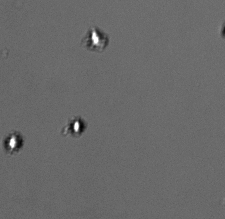Living Cell: (82, 28, 109, 50), (4, 131, 23, 153), (69, 113, 86, 137)
